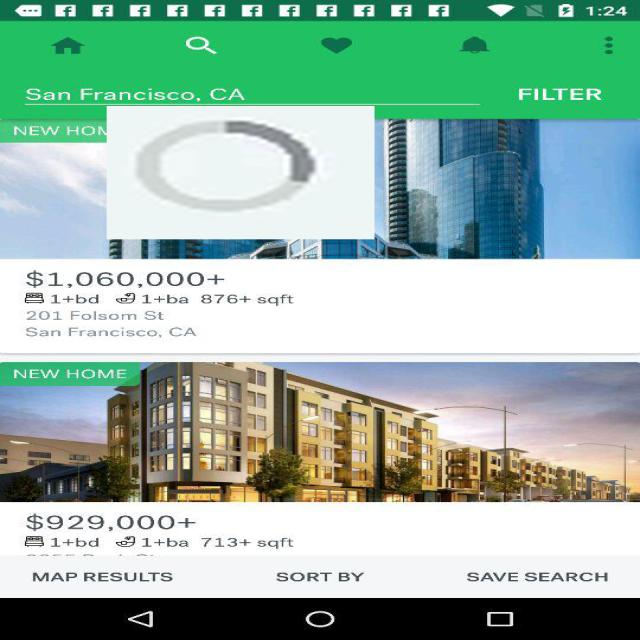misdirection: (106, 106, 374, 239)
